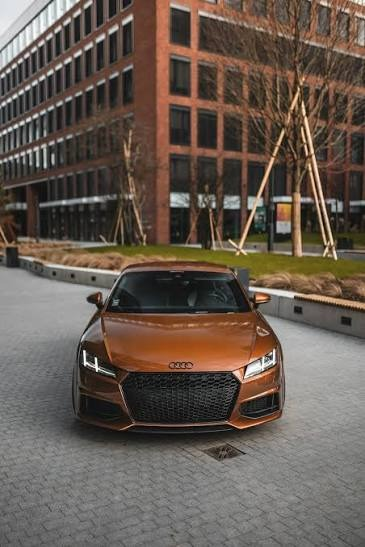car: (72, 252, 286, 435)
